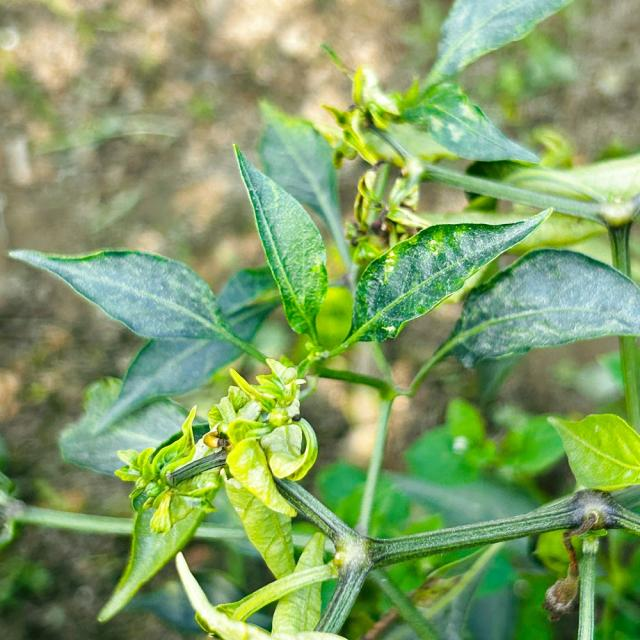Chilli_Leaf_Curl: (6, 1, 638, 638), (7, 245, 272, 368), (342, 206, 554, 347), (445, 247, 639, 369), (232, 142, 329, 345), (95, 491, 208, 624), (56, 374, 198, 477), (112, 405, 222, 534), (424, 0, 573, 84), (545, 411, 639, 491)
